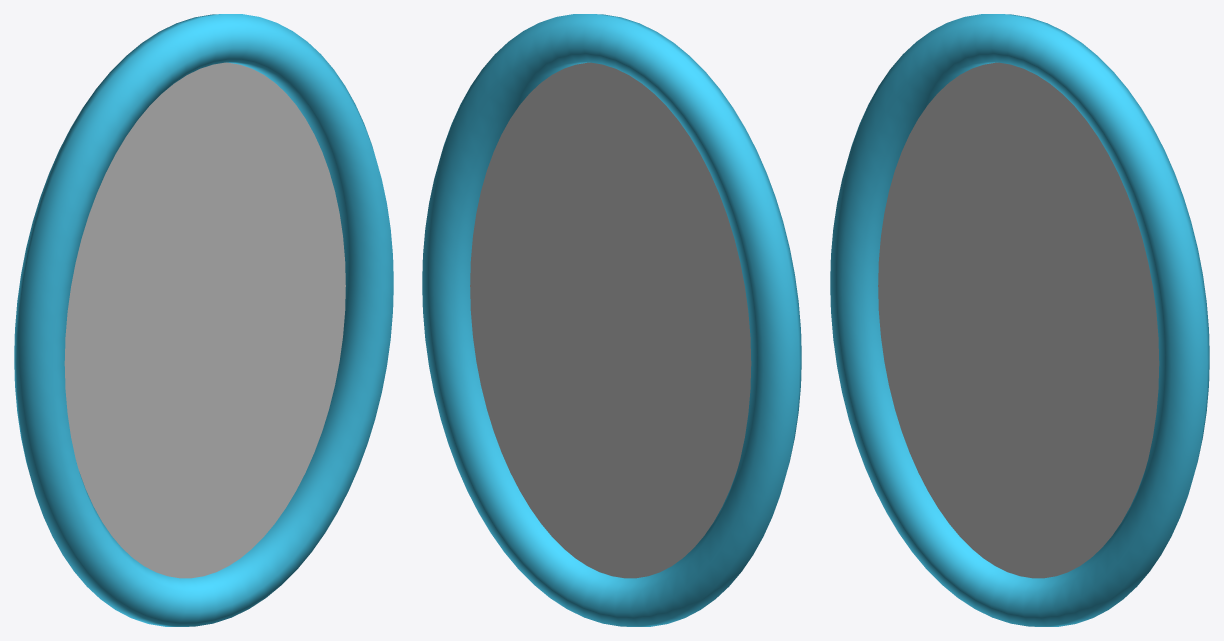
Rendered from chuansongmen.FBX.
3 views of the same model, side by side, from view 1: azimuth 30°, elevation 25°; view 2: azimuth 150°, elevation 25°; view 3: azimuth 330°, elevation 25° (orthographic).
Visible parts, largest first — view 1: 传送门 (×2); view 2: 传送门 (×2); view 3: 传送门 (×2).
Part boxes in pixels (x1,y1,x2,y2): 传送门 (×2): [14, 14, 393, 626]; 传送门 (×2): [422, 14, 801, 626]; 传送门 (×2): [830, 14, 1209, 626].
Bounding box in the file's own units: 87.45 × 135 × 10.59.
